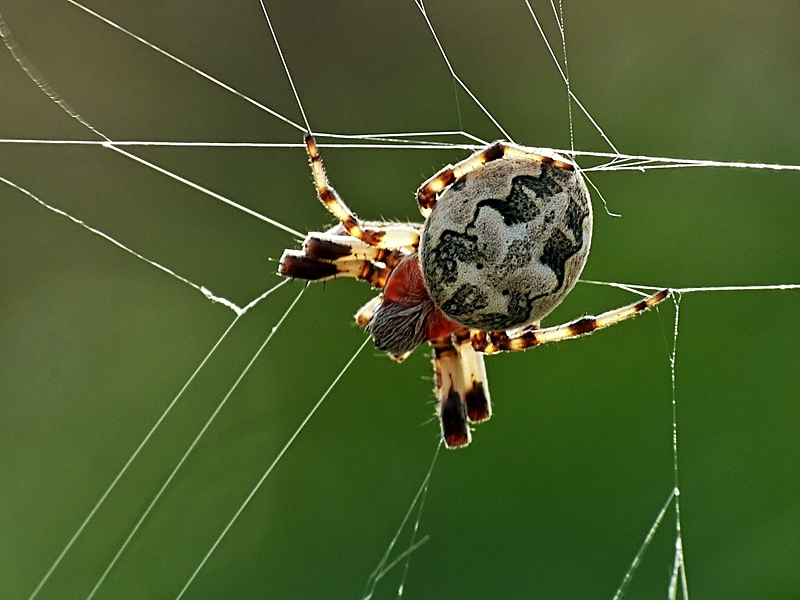spider: (249, 123, 682, 450)
